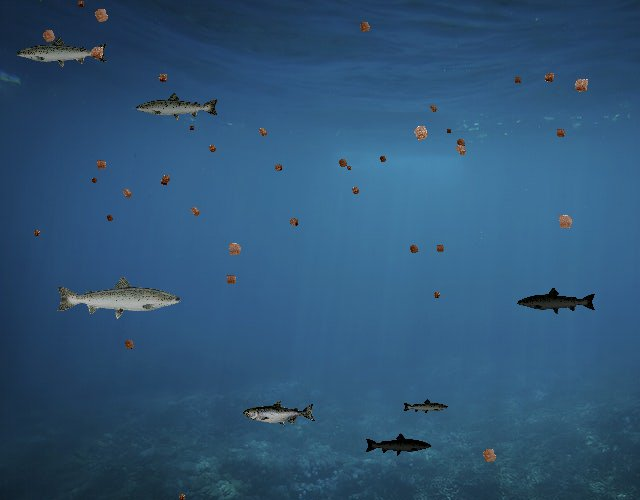Fish: (54, 274, 183, 320), (15, 36, 109, 69), (134, 91, 220, 122), (517, 286, 598, 315), (243, 400, 316, 427), (365, 432, 433, 457), (403, 399, 450, 415)
Pellet: (567, 71, 595, 99), (451, 134, 470, 153), (347, 183, 364, 200), (429, 288, 444, 302), (30, 226, 44, 240), (174, 490, 189, 500)
